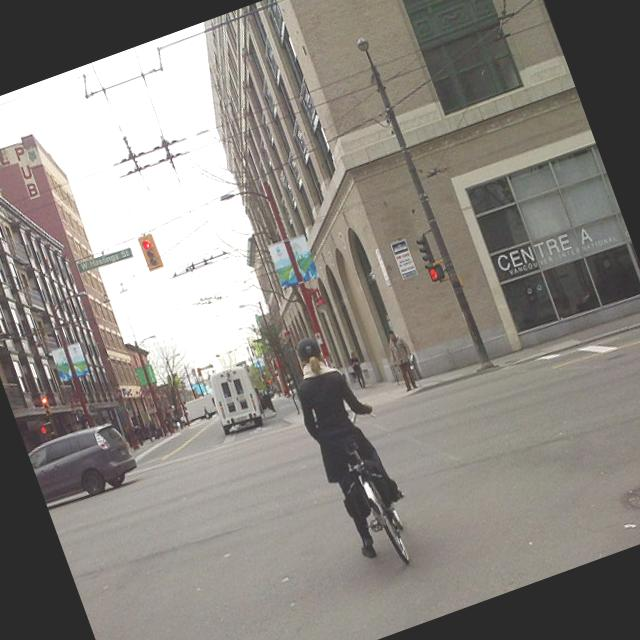Vehicle: (27, 416, 144, 514), (205, 362, 268, 438), (184, 392, 220, 426)
